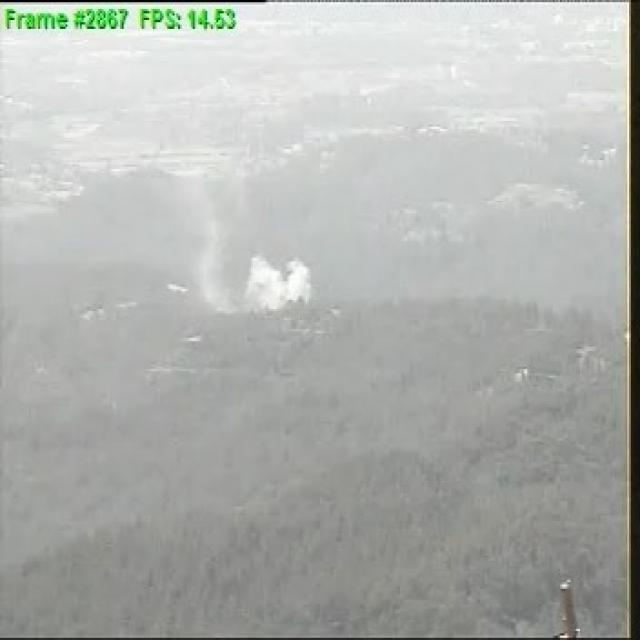smoke: (193, 244, 321, 312)
